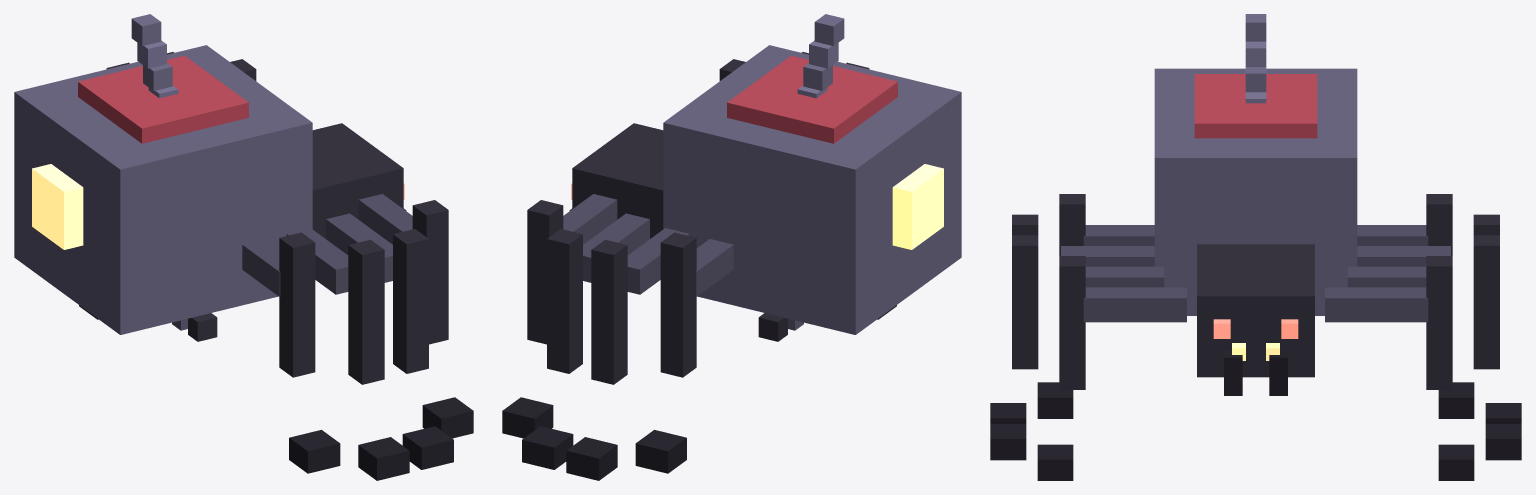
Rendered from ladder-web-spider.glb.
The picture shows the model from 3 angles, left to right: view 1: azimuth 30°, elevation 25°; view 2: azimuth 150°, elevation 25°; view 3: azimuth 270°, elevation 25°; orthographic projection. The views are drawn at different scales.
Parts seen in each view (by area): view 1: Abdomen, Legs, Markings, Feet, Body, Core, Crest, Scales; view 2: Abdomen, Legs, Markings, Feet, Body, Core, Crest, Scales; view 3: Legs, Abdomen, Body, Feet, Markings, Crest, Fangs, Eyes.
Boxes of the visible parts, left/top/right/bottom form: Abdomen: left=14, top=45, right=312, bottom=334; Legs: left=106, top=52, right=448, bottom=384; Markings: left=78, top=55, right=248, bottom=143; Feet: left=79, top=305, right=473, bottom=480; Body: left=312, top=123, right=403, bottom=238; Core: left=32, top=164, right=83, bottom=249; Crest: left=131, top=14, right=178, bottom=98; Scales: left=188, top=313, right=217, bottom=341; Abdomen: left=663, top=45, right=961, bottom=334; Legs: left=527, top=52, right=869, bottom=384; Markings: left=727, top=55, right=897, bottom=143; Feet: left=502, top=305, right=896, bottom=480; Body: left=572, top=123, right=663, bottom=238; Core: left=892, top=164, right=943, bottom=249; Crest: left=797, top=14, right=844, bottom=98; Scales: left=758, top=313, right=787, bottom=341; Legs: left=1012, top=194, right=1499, bottom=389; Abdomen: left=1154, top=68, right=1357, bottom=315; Body: left=1197, top=244, right=1314, bottom=377; Feet: left=990, top=382, right=1521, bottom=480; Markings: left=1194, top=74, right=1317, bottom=138; Crest: left=1245, top=14, right=1266, bottom=103; Fangs: left=1224, top=350, right=1287, bottom=395; Eyes: left=1213, top=319, right=1298, bottom=360.
Bounding box in the file's own units: 4 × 4.26 × 5.64.
